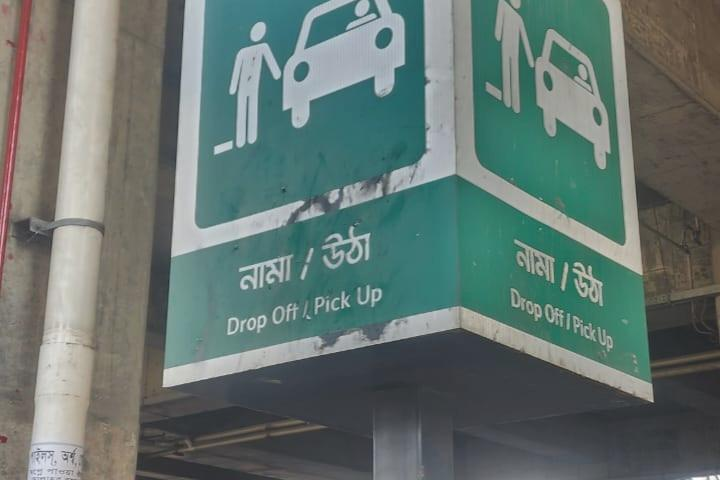Metro Dorp Up Pick up: (161, 0, 650, 412)
